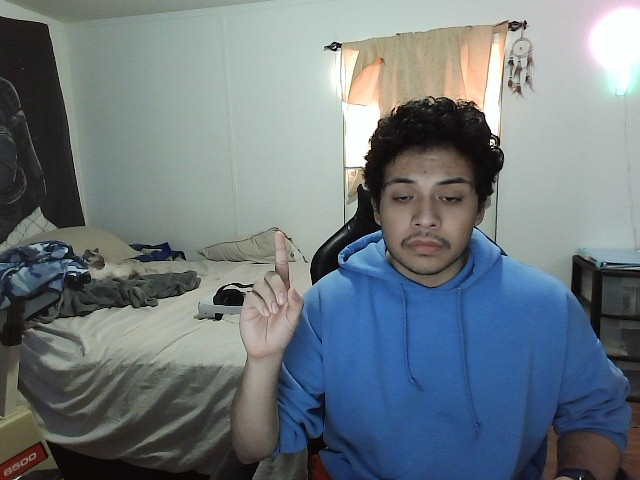D: (237, 228, 306, 356)
